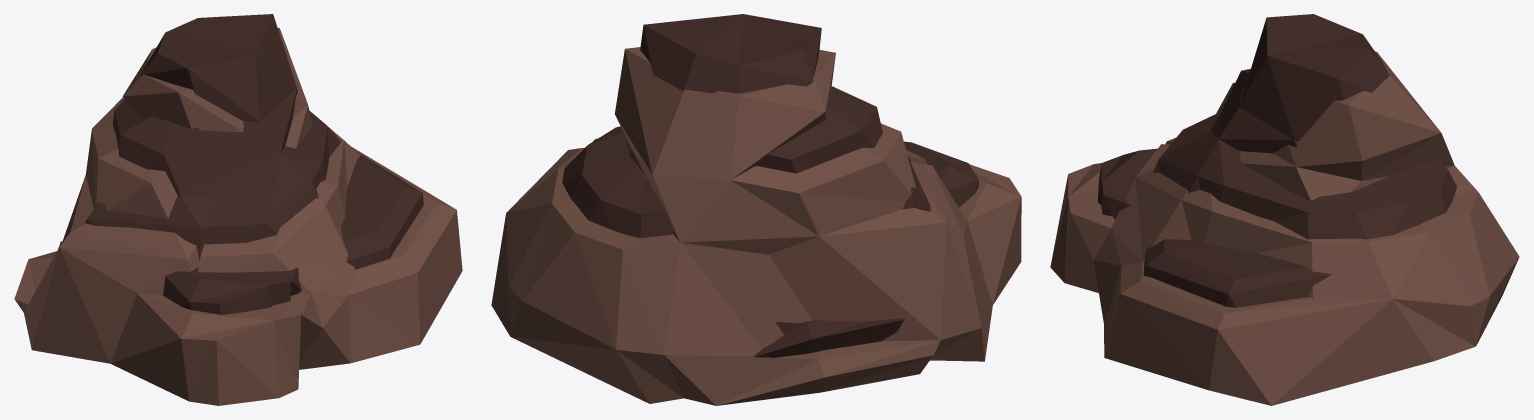
The model's file is Brown_rock_015.fbx.
3 views of the same model, side by side, from view 1: azimuth 30°, elevation 25°; view 2: azimuth 150°, elevation 25°; view 3: azimuth 270°, elevation 25° (orthographic). The views are drawn at different scales.
Parts seen in each view (by area): view 1: Brown_rock_015; view 2: Brown_rock_015; view 3: Brown_rock_015.
Boxes of the visible parts, x1=… form: Brown_rock_015: x1=14, y1=14, x2=462, y2=405; Brown_rock_015: x1=491, y1=14, x2=1021, y2=405; Brown_rock_015: x1=1050, y1=14, x2=1519, y2=405.
Size of the model in its own units: 876 by 823 by 513.
